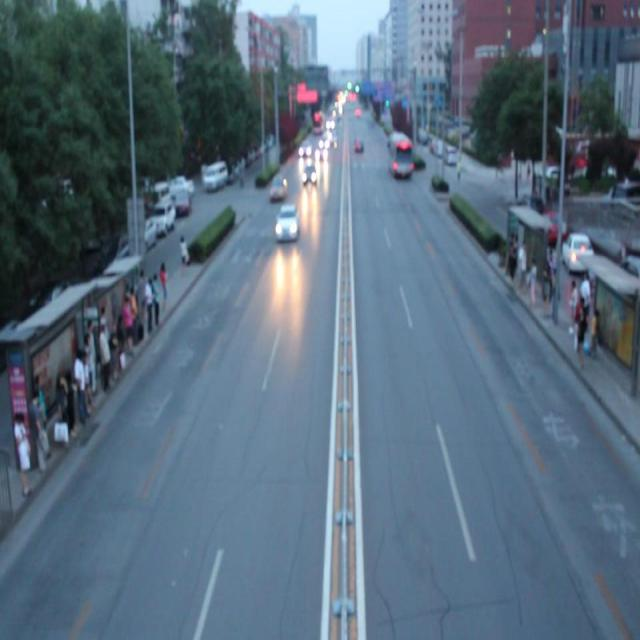car: (274, 204, 296, 239), (270, 174, 285, 198), (302, 164, 316, 184), (314, 145, 328, 163)
van: (387, 134, 412, 175)
